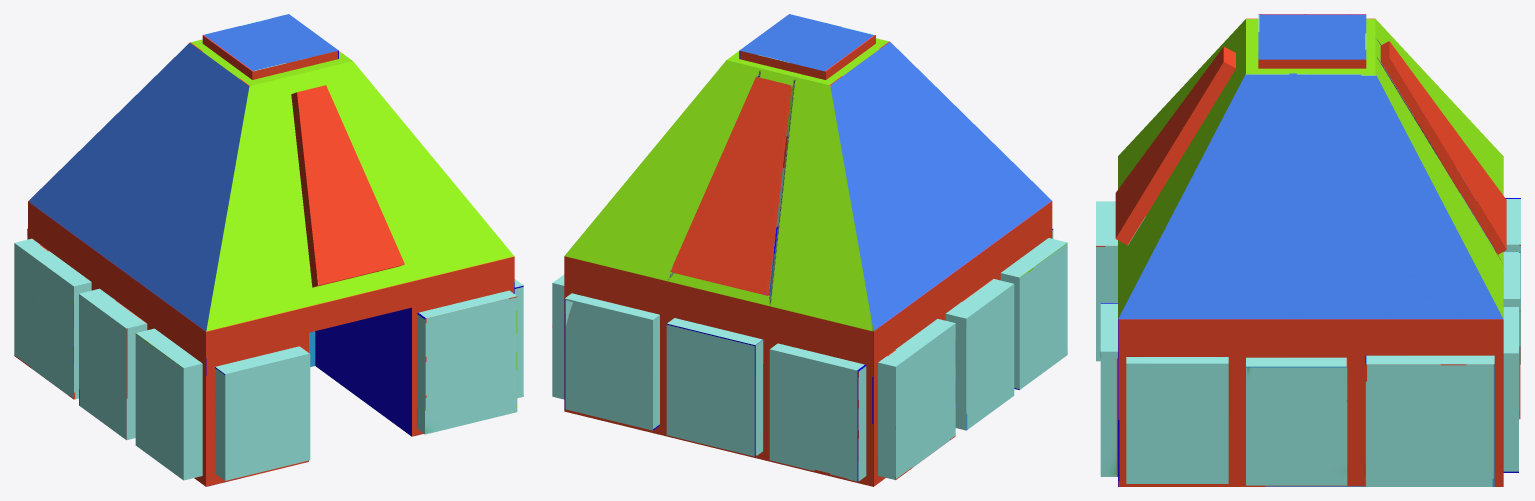
Rendered from Kazarm.fbx.
3 views of the same model, side by side, from view 1: azimuth 30°, elevation 25°; view 2: azimuth 150°, elevation 25°; view 3: azimuth 270°, elevation 25° (orthographic). The views are drawn at different scales.
Visible parts, largest first — view 1: kazarm; view 2: kazarm; view 3: kazarm.
Boxes of the visible parts, bbox=[...] form: kazarm: bbox=[14, 14, 523, 486]; kazarm: bbox=[552, 14, 1067, 486]; kazarm: bbox=[1096, 14, 1520, 486].
Bounding box in the file's own units: 225 × 211 × 220.
